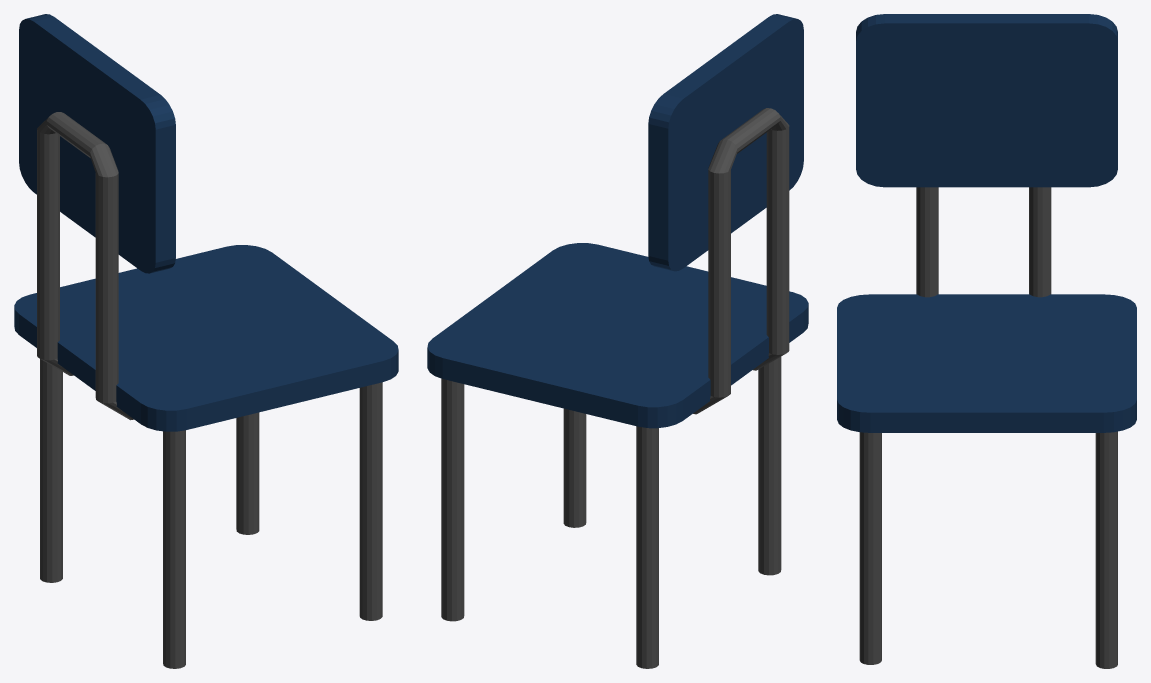
The model's file is silla (1).fbx.
3 views of the same model, side by side, from view 1: azimuth 30°, elevation 25°; view 2: azimuth 150°, elevation 25°; view 3: azimuth 270°, elevation 25° (orthographic). The views are drawn at different scales.
Parts seen in each view (by area): view 1: Cylinder.002; view 2: Cylinder.002; view 3: Cylinder.002.
Part boxes in pixels (x1,y1,x2,y2): Cylinder.002: [14, 14, 398, 668]; Cylinder.002: [427, 14, 808, 668]; Cylinder.002: [837, 14, 1136, 668].
Size of the model in its own units: 197 by 402 by 200.
